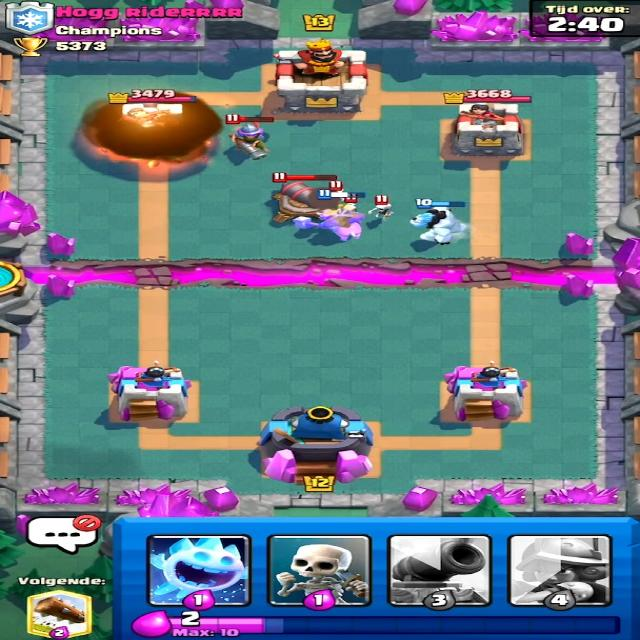Cannon_Card: (390, 534, 492, 606)
Enemy_Cannon_Troop: (264, 176, 340, 221)
Enemy_Musketeer_Troop: (219, 113, 283, 158)
Enemy_Skeleton_Troop: (369, 196, 406, 218)
Hog_Rider_Troop: (294, 203, 364, 244)
Ice_Golem_Troop: (411, 202, 466, 251)
Ice_Spirit_Card: (137, 535, 260, 609)
Musketeer_Card: (510, 532, 610, 608)
Skeleton_Card: (274, 539, 382, 606)
